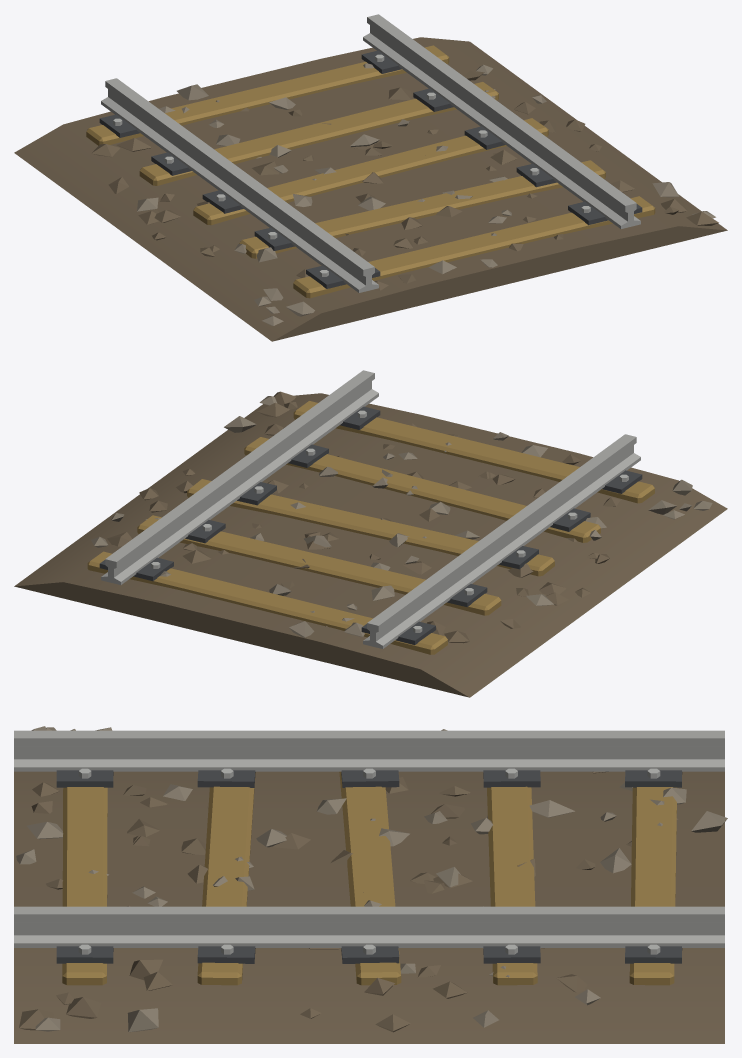
The model's file is straight-rail.glb.
The picture shows the model from 3 angles, top to bottom: view 1: azimuth 30°, elevation 25°; view 2: azimuth 150°, elevation 25°; view 3: azimuth 270°, elevation 25°; orthographic projection. The views are drawn at different scales.
Visible parts, largest first — view 1: body; view 2: body; view 3: body.
Part boxes in pixels (left/top/right/bottom): body: left=14, top=14, right=727, bottom=341; body: left=14, top=370, right=727, bottom=697; body: left=14, top=726, right=727, bottom=1043.
Size of the model in its own units: 2.04 by 0.215 by 2.01.
